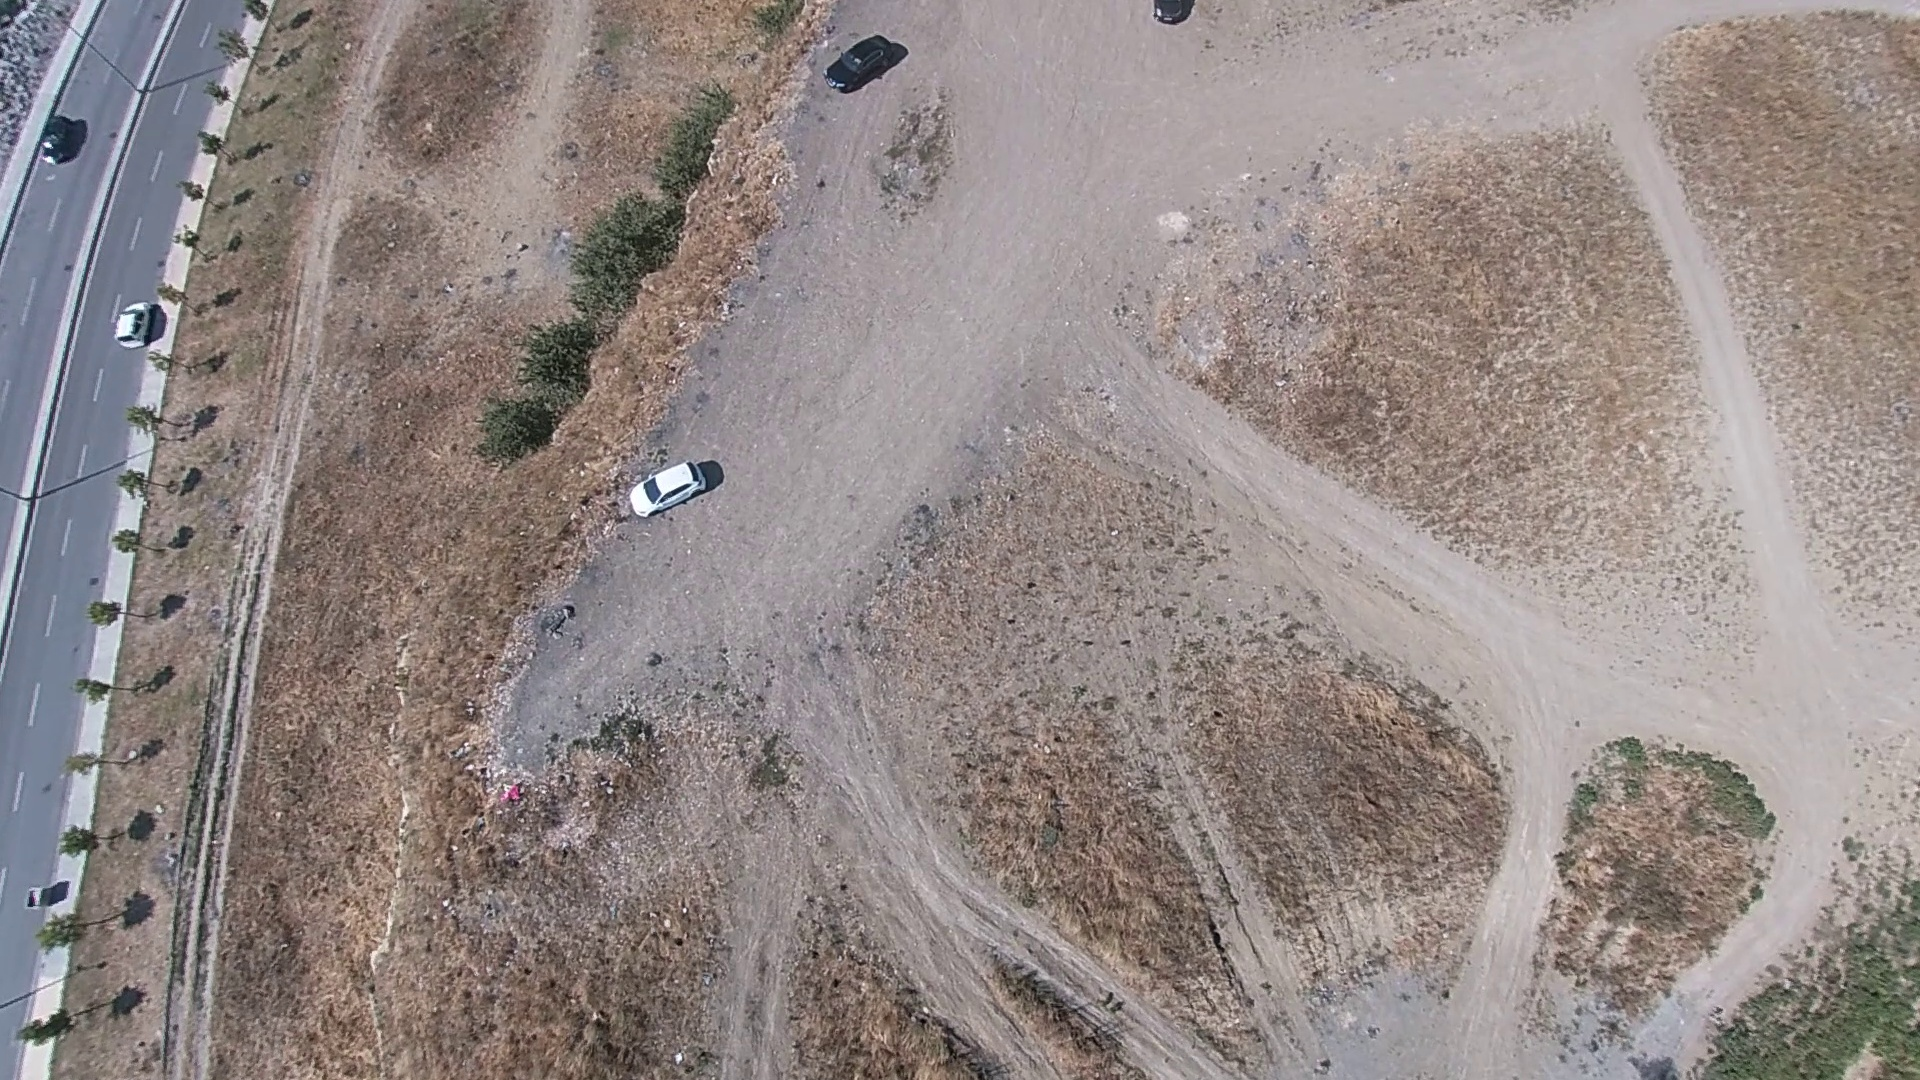arac: (628, 455, 723, 520), (820, 34, 903, 92), (111, 284, 160, 353), (44, 115, 66, 162)
